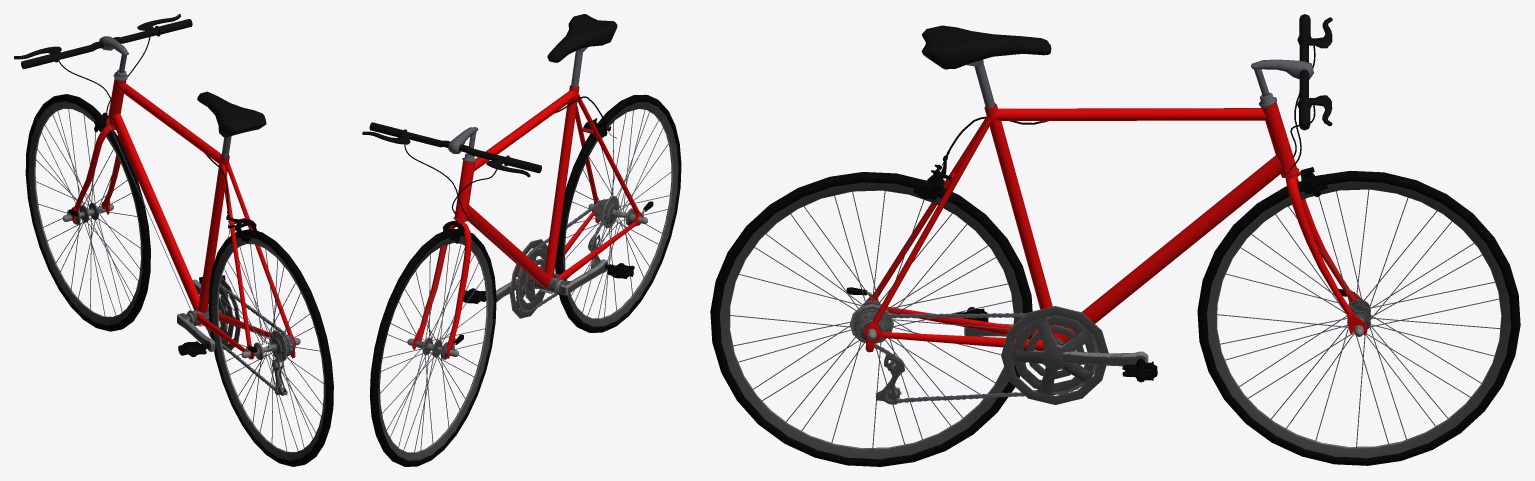
Rendered from frl_apartment_bike_02.glb.
3 renders of one model, left to right at view 1: azimuth 30°, elevation 25°; view 2: azimuth 150°, elevation 25°; view 3: azimuth 270°, elevation 25°, orthographic. The views are drawn at different scales.
Parts seen in each view (by area): view 1: frl_apartment_bike_02; view 2: frl_apartment_bike_02; view 3: frl_apartment_bike_02.
Part boxes in pixels (x1,y1,x2,y2): frl_apartment_bike_02: (14, 14, 333, 466); frl_apartment_bike_02: (362, 14, 681, 466); frl_apartment_bike_02: (710, 14, 1520, 466).
Bounding box in the file's own units: 0.5344 × 0.9753 × 1.67.
1 material, 1 textured.
